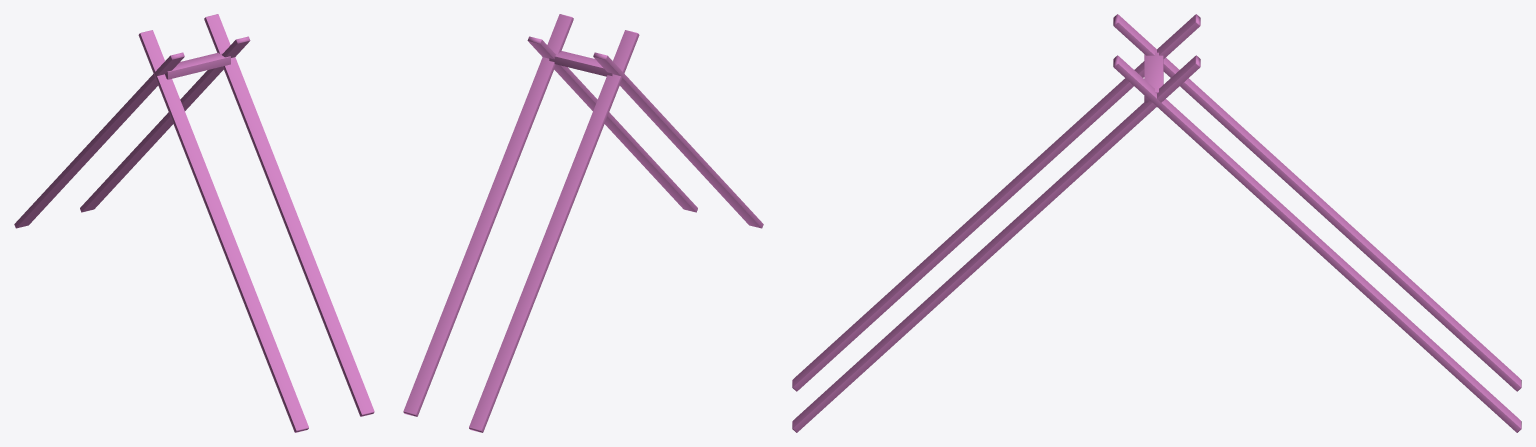
Rendered from RoofBase6on1.fbx.
The picture shows the model from 3 angles, left to right: view 1: azimuth 30°, elevation 25°; view 2: azimuth 150°, elevation 25°; view 3: azimuth 270°, elevation 25°; orthographic projection. The views are drawn at different scales.
Parts seen in each view (by area): view 1: Roof; view 2: Roof; view 3: Roof.
Part boxes in pixels (<box>): Roof: <box>14,14,374,432</box>; Roof: <box>403,14,763,432</box>; Roof: <box>792,14,1521,432</box>.
Bounding box in the file's own units: 40.18 × 140 × 251.
